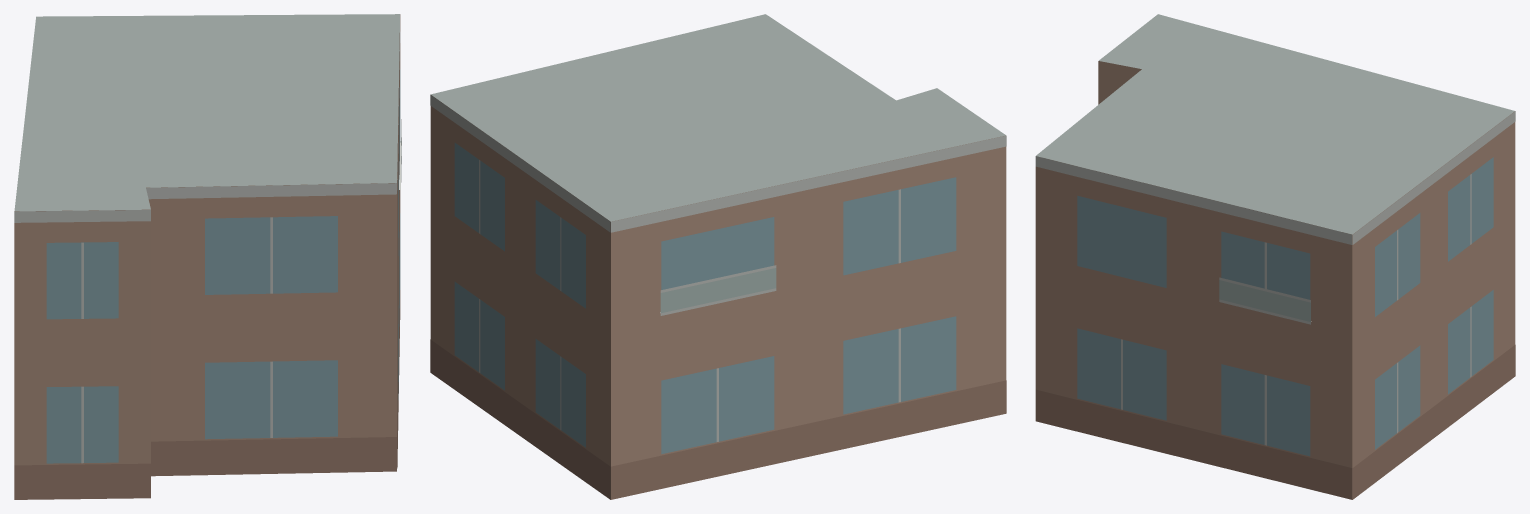
File: survey-upis-33029575.glb
3 views of the same model, side by side, from view 1: azimuth 30°, elevation 25°; view 2: azimuth 150°, elevation 25°; view 3: azimuth 270°, elevation 25° (orthographic). The views are drawn at different scales.
Visible parts, largest first — view 1: survey-upis-33029575.tmp; view 2: survey-upis-33029575.tmp; view 3: survey-upis-33029575.tmp.
Boxes of the visible parts, x1,y1,x2,y2 form: survey-upis-33029575.tmp: (14,14,401,499); survey-upis-33029575.tmp: (430,14,1006,499); survey-upis-33029575.tmp: (1035,14,1515,499).
Size of the model in its own units: 10.89 by 6.1 by 10.01.
